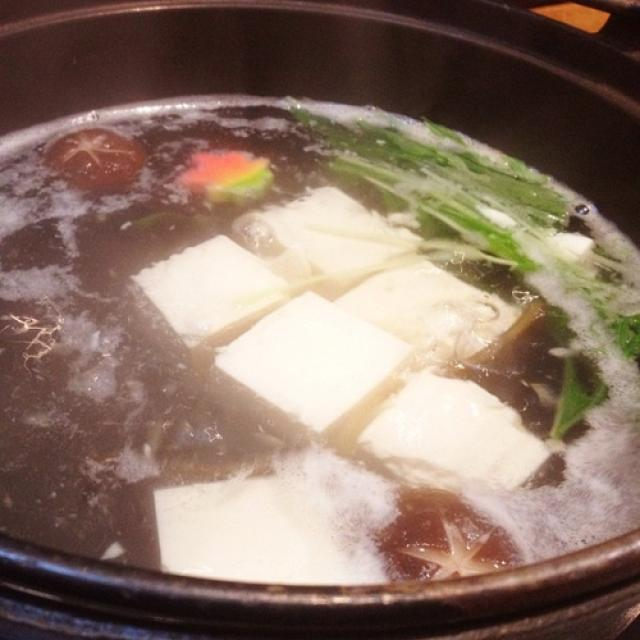豆腐料理: (54, 148, 634, 554)
